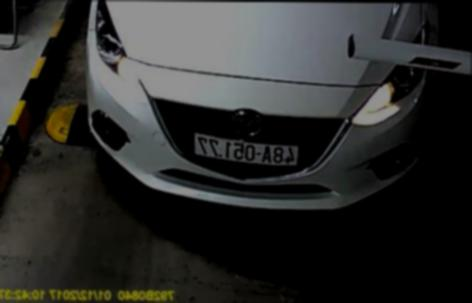License_Plate: (196, 136, 300, 165)
